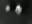person: (14, 4, 23, 17), (5, 5, 12, 14)
